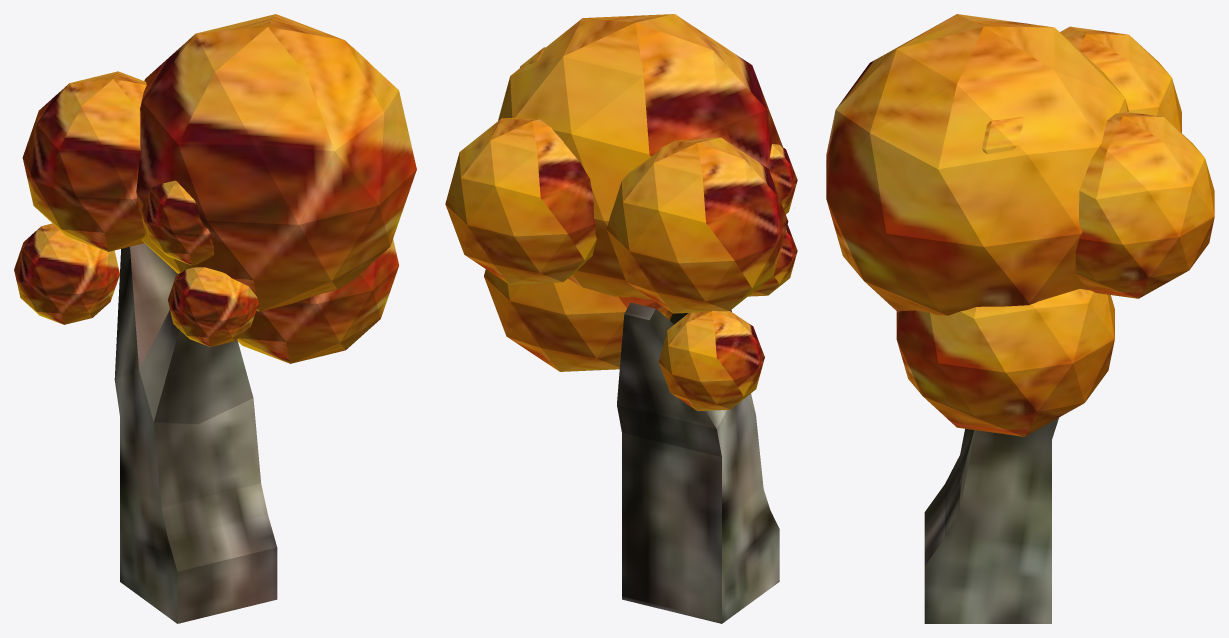
The model's file is Tree3.fbx.
3 renders of one model, left to right at view 1: azimuth 30°, elevation 25°; view 2: azimuth 150°, elevation 25°; view 3: azimuth 270°, elevation 25°, orthographic. The views are drawn at different scales.
Visible parts, largest first — view 1: Tree 3; view 2: Tree 3; view 3: Tree 3.
Boxes of the visible parts, bbox=[...] form: Tree 3: bbox=[14, 14, 416, 623]; Tree 3: bbox=[445, 14, 797, 623]; Tree 3: bbox=[826, 14, 1214, 623].
Size of the model in its own units: 610 by 635 by 1051.
